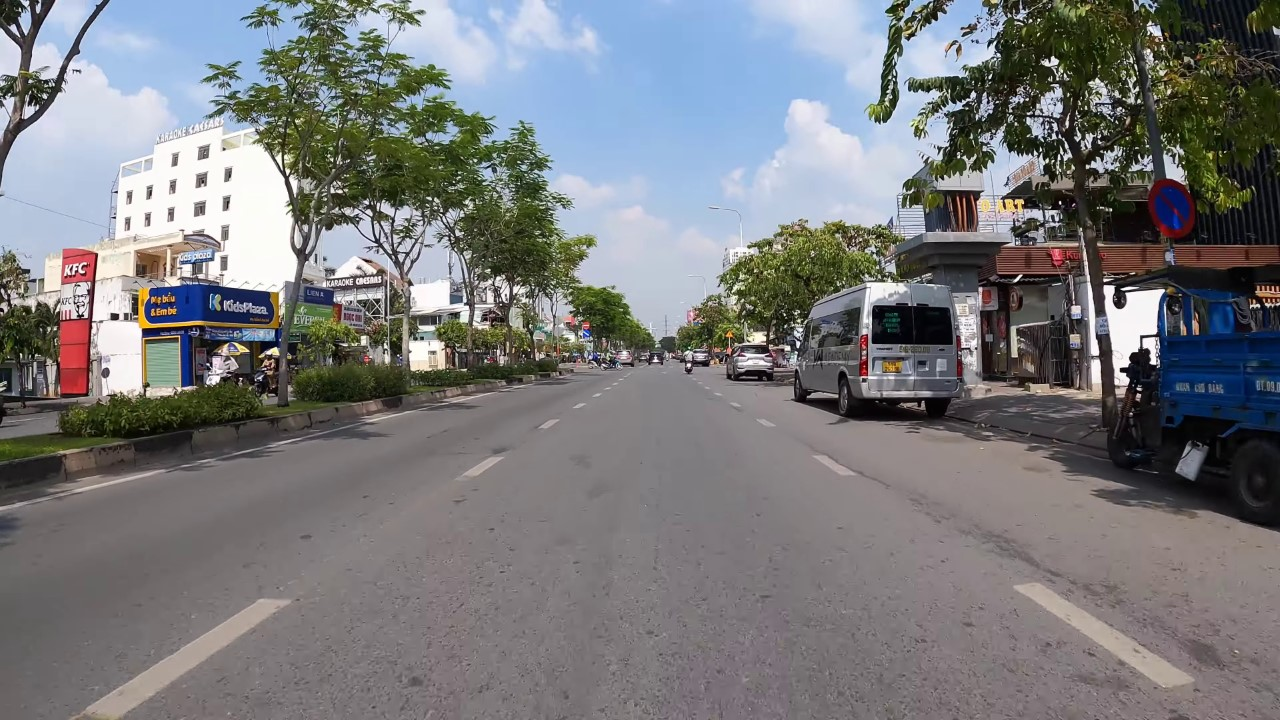cam_do_xe: (1141, 172, 1202, 243)
